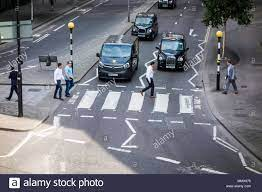crossing: (138, 58, 160, 100)
waiting: (220, 55, 239, 100), (5, 66, 21, 103), (52, 62, 66, 101), (63, 59, 75, 99)
